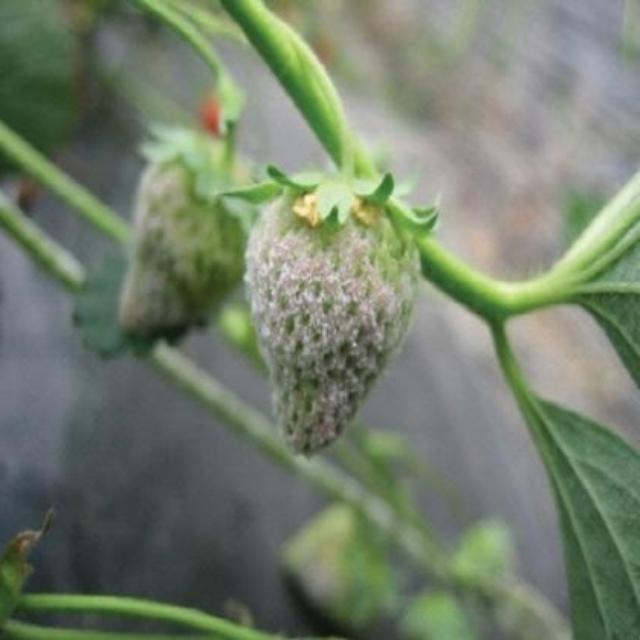Powdery Mildew Fruit: (243, 171, 423, 457), (116, 139, 261, 338)
